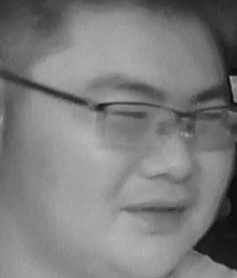glass: (99, 100, 178, 146), (187, 105, 237, 149)
mouth: (124, 195, 194, 233)
